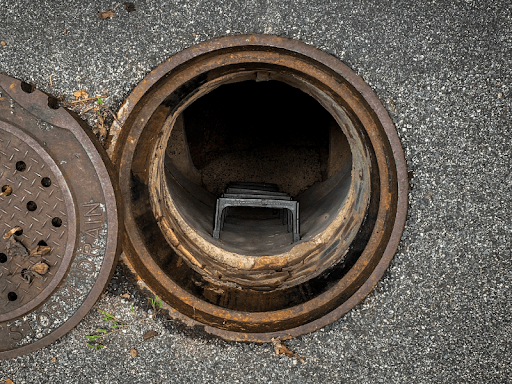Open_manhole: (5, 27, 420, 354)
